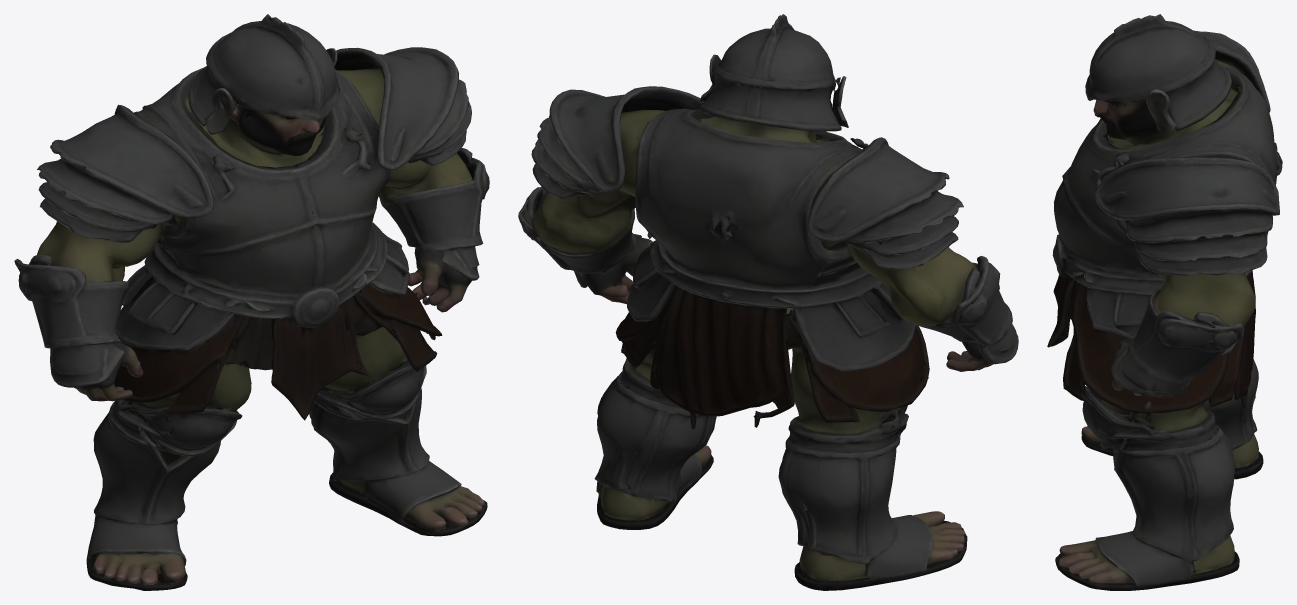
File: pitborn-L8-trellis-review.glb
3 views of the same model, side by side, from view 1: azimuth 30°, elevation 25°; view 2: azimuth 150°, elevation 25°; view 3: azimuth 270°, elevation 25° (orthographic). The views are drawn at different scales.
Parts seen in each view (by area): view 1: world; view 2: world; view 3: world.
Boxes of the visible parts, x1,y1,x2,y2 form: world: [14, 14, 489, 590]; world: [518, 14, 1018, 590]; world: [1047, 14, 1282, 590].
Bounding box in the file's own units: 0.9295 × 0.9994 × 0.4304.
Materials: 1 (1 with a texture image).
